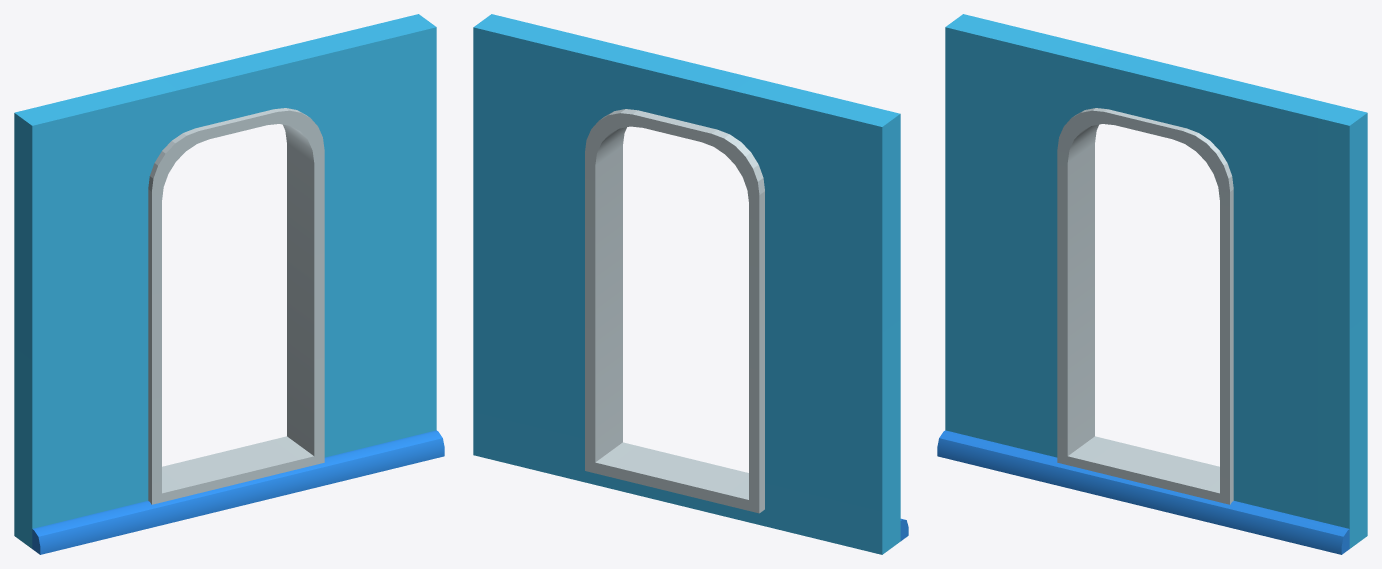
Rendered from B_DoorWall001.fbx.
3 views of the same model, side by side, from view 1: azimuth 30°, elevation 25°; view 2: azimuth 150°, elevation 25°; view 3: azimuth 330°, elevation 25° (orthographic).
Parts seen in each view (by area): view 1: DoorWall001; view 2: DoorWall001; view 3: DoorWall001.
Part boxes in pixels (x1,y1,x2,y2): DoorWall001: (14,14,444,554); DoorWall001: (473,14,908,554); DoorWall001: (937,14,1367,554).
Bounding box in the file's own units: 250 × 250 × 33.87.
1 material, 1 textured.
